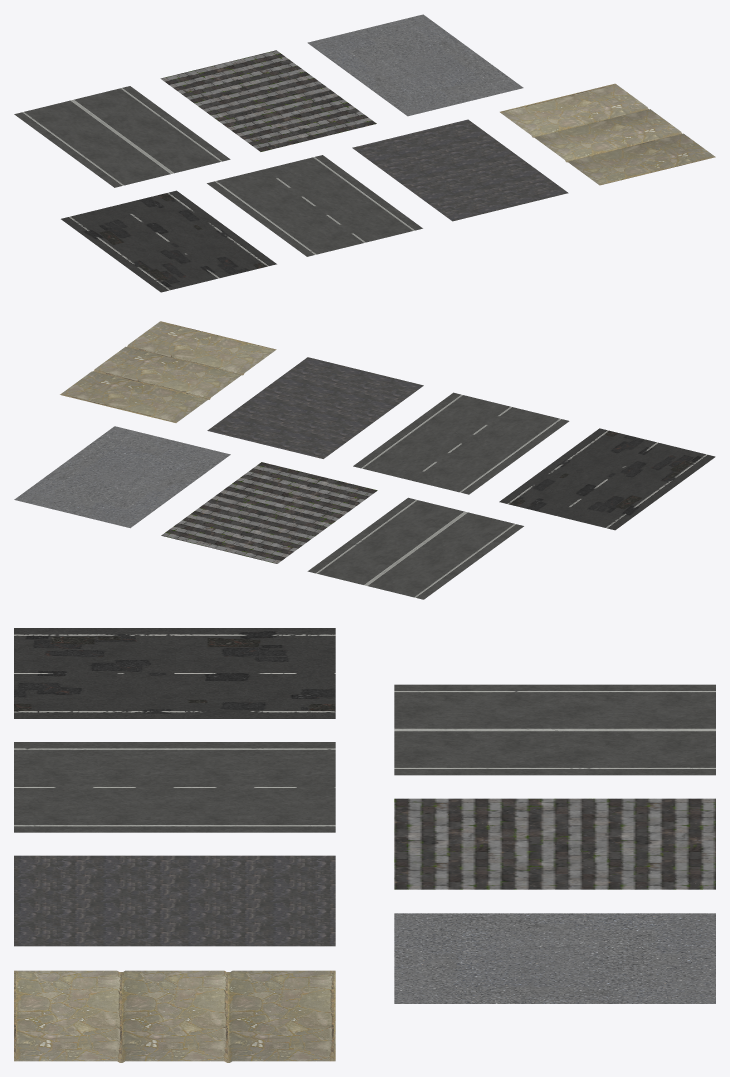
The model's file is low_road.glb.
3 renders of one model, top to bottom at view 1: azimuth 30°, elevation 25°; view 2: azimuth 150°, elevation 25°; view 3: azimuth 270°, elevation 25°, orthographic. The views are drawn at different scales.
Visible parts, largest first — view 1: Plane.003, Plane.006, Plane.004, Plane, Plane.002, Plane.005, Plane.001; view 2: Plane.003, Plane.001, Plane.004, Plane.005, Plane.006, Plane, Plane.002; view 3: Plane.002, Plane.004, Plane.005, Plane.003, Plane, Plane.001, Plane.006.
Boxes of the visible parts, x1,y1,x2,y2 form: Plane.003: (500, 83, 715, 185); Plane.006: (307, 14, 523, 116); Plane.004: (14, 86, 230, 187); Plane: (61, 190, 276, 292); Plane.002: (352, 119, 568, 221); Plane.005: (160, 50, 376, 151); Plane.001: (207, 155, 422, 256); Plane.003: (60, 321, 276, 422); Plane.001: (353, 392, 569, 494); Plane.004: (307, 497, 523, 599); Plane.005: (161, 462, 377, 563); Plane.006: (14, 426, 230, 528); Plane: (499, 428, 715, 530); Plane.002: (207, 357, 423, 458); Plane.002: (14, 855, 335, 946); Plane.004: (394, 684, 715, 775); Plane.005: (394, 798, 715, 889); Plane.003: (14, 970, 335, 1062); Plane: (14, 628, 335, 718); Plane.001: (14, 742, 335, 832); Plane.006: (394, 913, 715, 1003).
Size of the model in its own units: 18.95 by 0.0336 by 12.98.
Materials: 7 (7 with a texture image).
